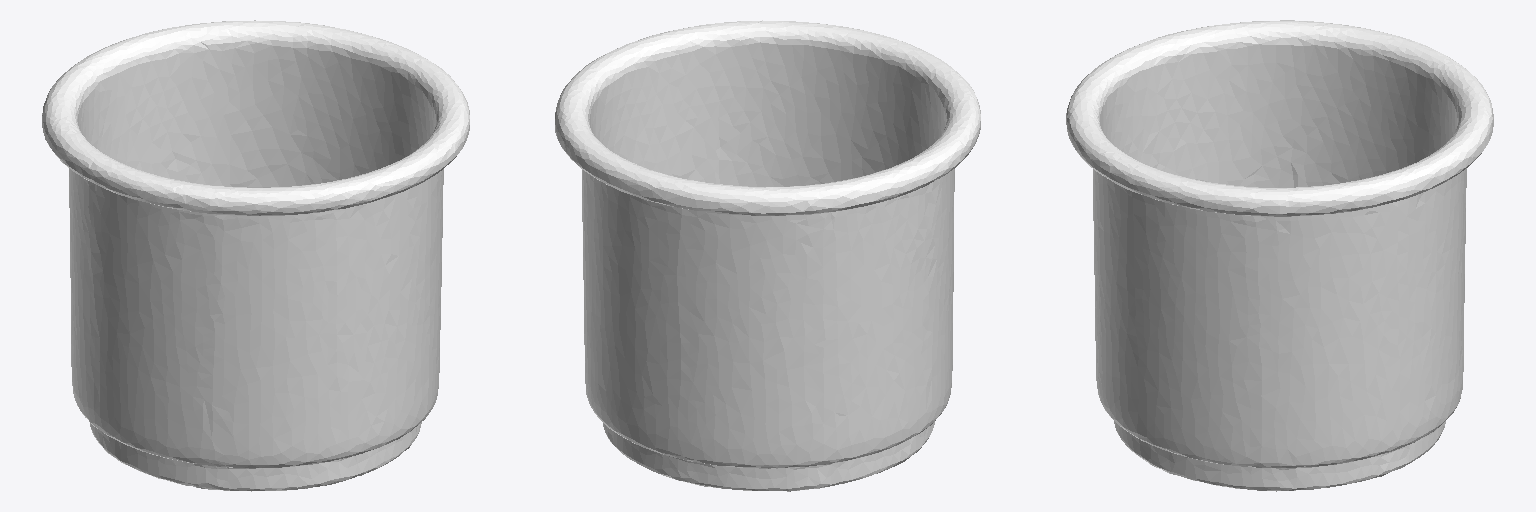
robot.urdf — 015_peach:
<robot name="015_peach">
	<link name="_name">
		<visual>
			<origin xyz="0.15047325763457797 -0.06783997168206114 -0.28259603076768536" rpy="0 0 0" />
			<geometry>
				<mesh filename="015_peach/google_16k/textured.obj" scale="10 10 10" />
			</geometry>
			<material name="texture">
				<color rgba="1.0 1.0 1.0 1.0" />
			</material>
		</visual>
		<collision>
			<geometry>
				<mesh filename="015_peach/google_16k/textured_vhacd.obj" scale="10 10 10" />
			</geometry>
		<origin xyz="0.15047325763457797 -0.06783997168206114 -0.28259603076768536" rpy="0 0 0" /></collision>
		<inertial>
			<mass value="1.0" />
			<inertia ixx="1.0" ixy="0.0" ixz="0.0" iyy="1.0" iyz="0.0" izz="1.0" />
		</inertial>
	</link>
</robot>

--- What the picture shows (computed from the rendered views, not written in the file) ---
The picture shows the robot from 3 angles, left to right: view 1: azimuth 30°, elevation 25°; view 2: azimuth 150°, elevation 25°; view 3: azimuth 270°, elevation 25°; orthographic projection.
Model 015_peach with 1 links and 0 joints (none), rooted at _name, posed all joints at 0.
Visible links, largest first — view 1: _name; view 2: _name; view 3: _name.
Boxes of the visible links, <box> form: _name: <box>42,20,469,491</box>; _name: <box>555,20,980,491</box>; _name: <box>1066,20,1493,491</box>.
Size in the robot's own frame: 0.915 by 0.9162 by 0.7506 metres.
Meshes: 1 distinct files referenced, 1 mesh visuals loaded (1 OBJ).